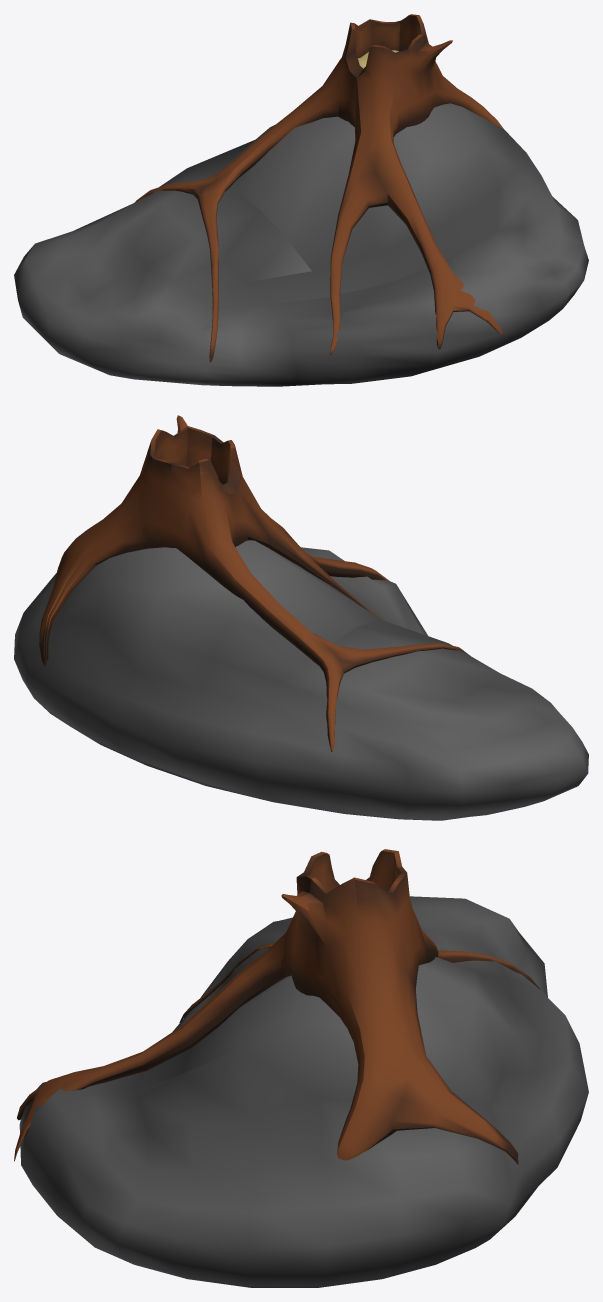
The model's file is WoodOnRock1.fbx.
The picture shows the model from 3 angles, top to bottom: view 1: azimuth 30°, elevation 25°; view 2: azimuth 150°, elevation 25°; view 3: azimuth 270°, elevation 25°; orthographic projection. The views are drawn at different scales.
Parts seen in each view (by area): view 1: WoodOnRock1; view 2: WoodOnRock1; view 3: WoodOnRock1.
Boxes of the visible parts, x1,y1,x2,y2 form: WoodOnRock1: (14,14,588,386); WoodOnRock1: (14,415,588,820); WoodOnRock1: (14,849,588,1287).
Bounding box in the file's own units: 350 × 185 × 247.
